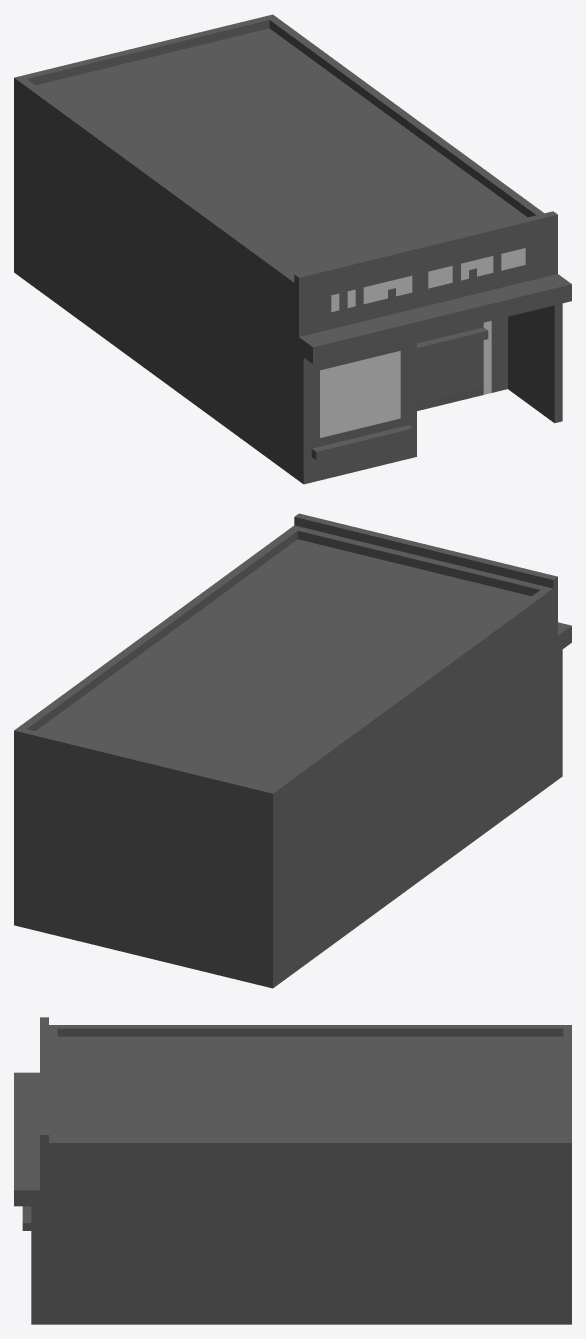
File: bld_store07.obj
3 views of the same model, one above another, from view 1: azimuth 30°, elevation 25°; view 2: azimuth 150°, elevation 25°; view 3: azimuth 270°, elevation 25° (orthographic). The views are drawn at different scales.
Bounding box in the file's own units: 32 × 24 × 64.
